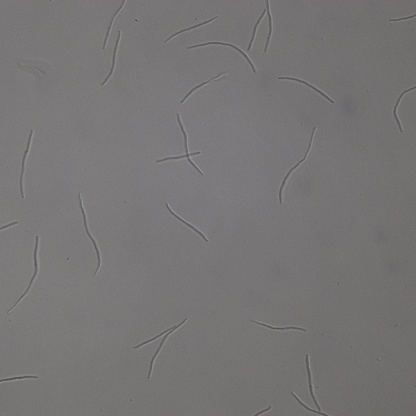Sensitive: (133, 317, 187, 378), (156, 110, 204, 175), (278, 127, 316, 203), (6, 236, 41, 313), (289, 354, 329, 416), (187, 42, 256, 73), (78, 191, 102, 277), (278, 75, 335, 105), (165, 204, 207, 242), (165, 15, 218, 41), (247, 1, 273, 53), (183, 73, 228, 101), (391, 86, 416, 134), (101, 31, 123, 85), (102, 1, 126, 48), (18, 128, 33, 200), (251, 320, 305, 333)
